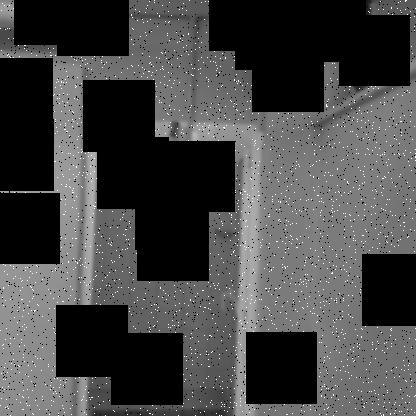Porte: (76, 128, 265, 416)
